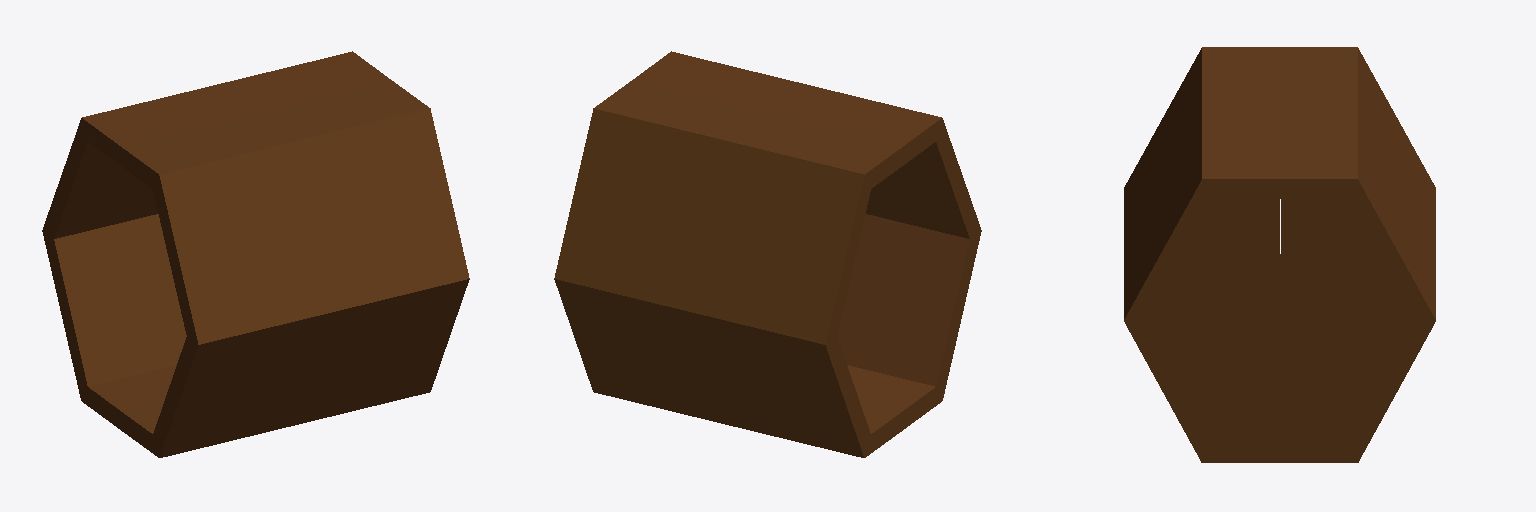
3 renders of one model, left to right at view 1: azimuth 30°, elevation 25°; view 2: azimuth 150°, elevation 25°; view 3: azimuth 270°, elevation 25°, orthographic.
Parts seen in each view (by area): view 1: Mesh1 Group1 Model; view 2: Mesh1 Group1 Model; view 3: Mesh1 Group1 Model.
Boxes of the visible parts, <box> form: Mesh1 Group1 Model: <box>42,51,469,457</box>; Mesh1 Group1 Model: <box>554,51,981,457</box>; Mesh1 Group1 Model: <box>1124,47,1435,462</box>.
Size of the model in its own units: 5.12 by 5.16 by 5.11.
Materials: 4 (3 with a texture image).